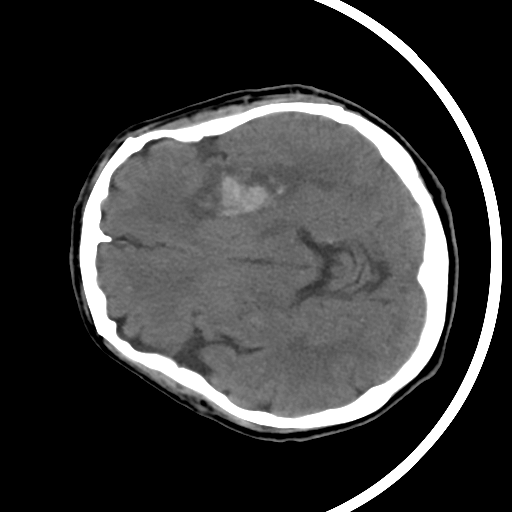a: (173, 147, 313, 230)
